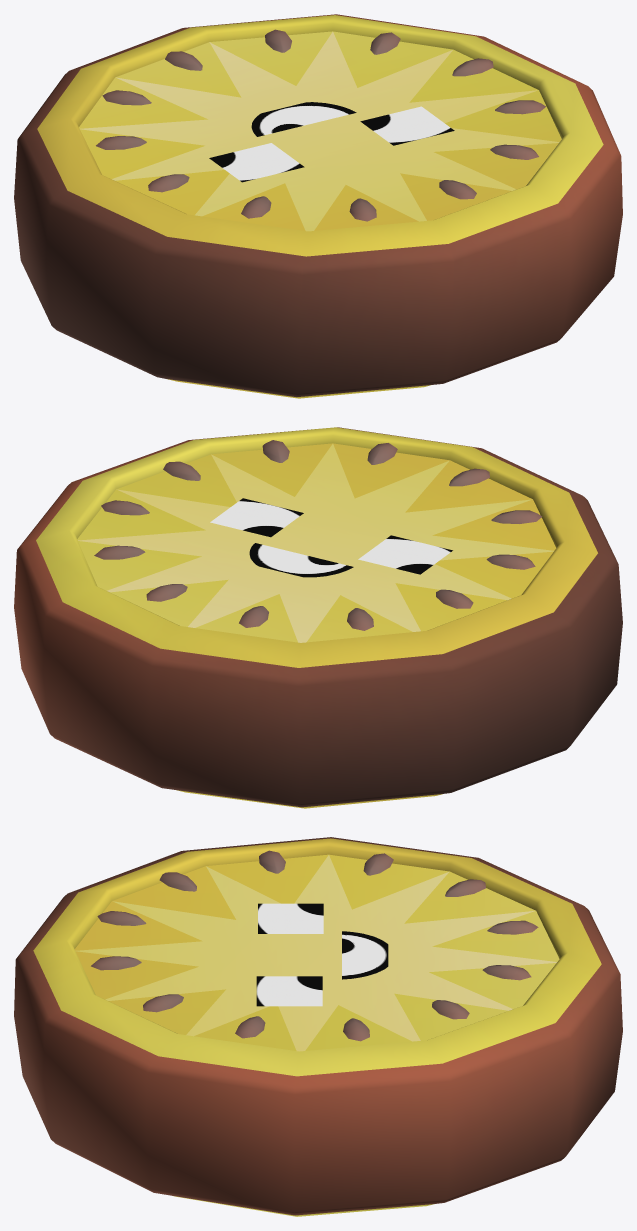
File: kiwi_yellow_smile.fbx
3 renders of one model, top to bottom at view 1: azimuth 30°, elevation 25°; view 2: azimuth 150°, elevation 25°; view 3: azimuth 270°, elevation 25°, orthographic.
Visible parts, largest first — view 1: kiwi_yellow; view 2: kiwi_yellow; view 3: kiwi_yellow.
Part boxes in pixels (x1,y1,x2,y2): kiwi_yellow: (14, 14, 622, 398); kiwi_yellow: (14, 427, 622, 808); kiwi_yellow: (14, 837, 622, 1216).
Size of the model in its own units: 26.18 by 26.14 by 8.11.
